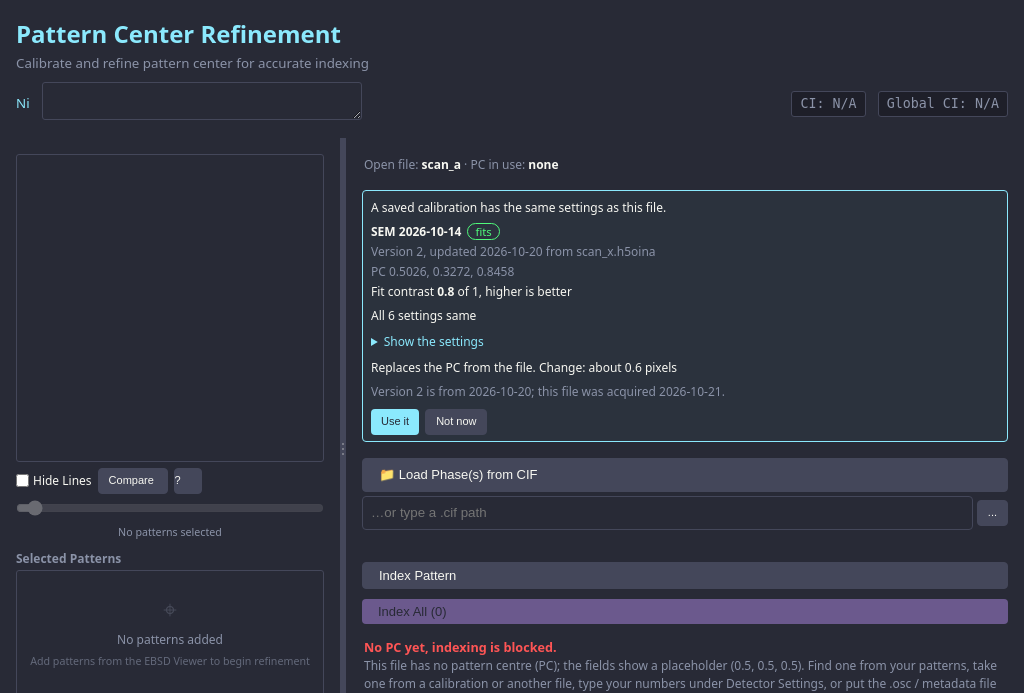
the offer on load › a file that had no PC gets "Remove this PC" after the use
The width and height of the screenshot is (1024, 693).
Click the button "Use it" at (395, 422), box 371,409 -> 419,435
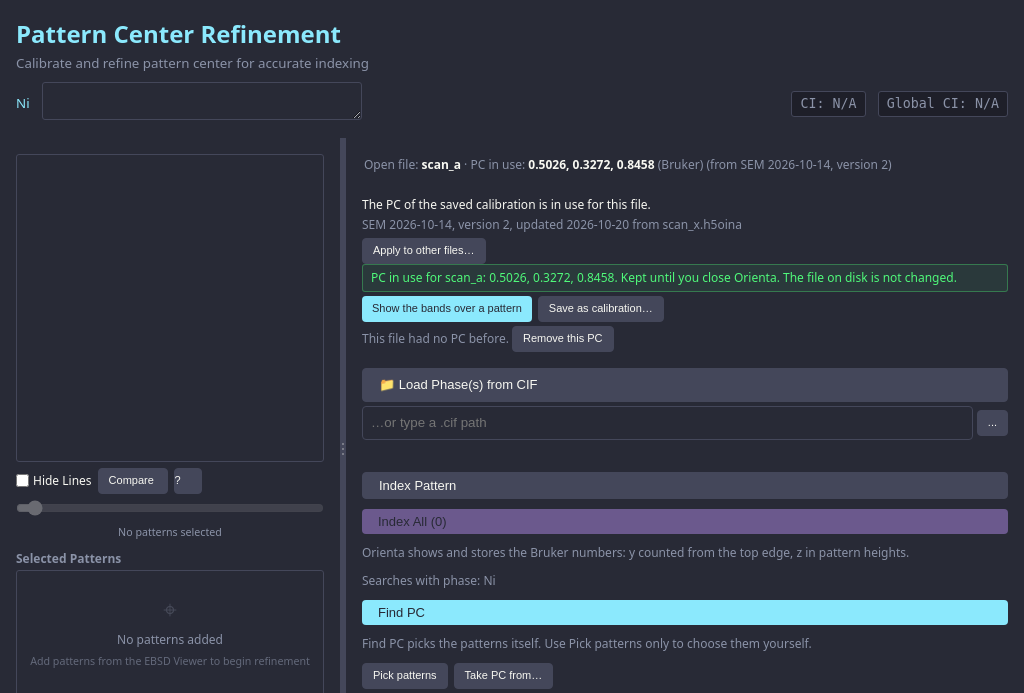
Now the text "This file had no PC before." is shown, box 362,330 -> 509,346
Now the button "Remove this PC" is shown, box 512,326 -> 614,352
